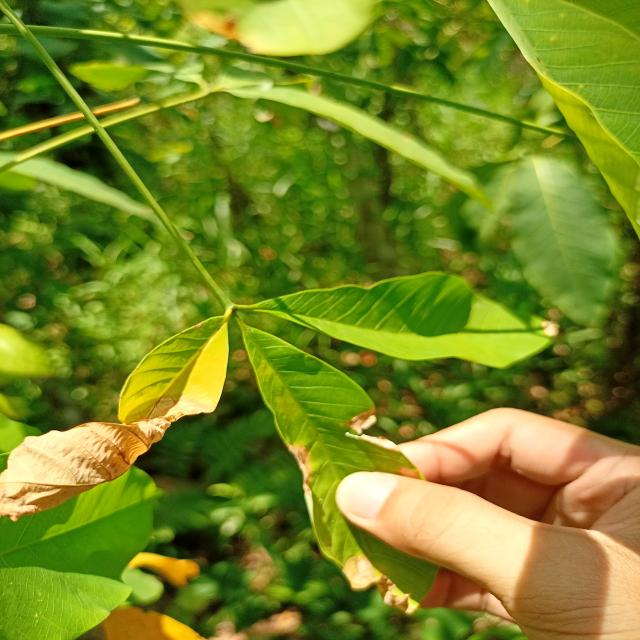Leaf-Blight: (0, 398, 213, 521), (342, 554, 416, 614), (346, 406, 400, 452), (286, 444, 314, 516)
